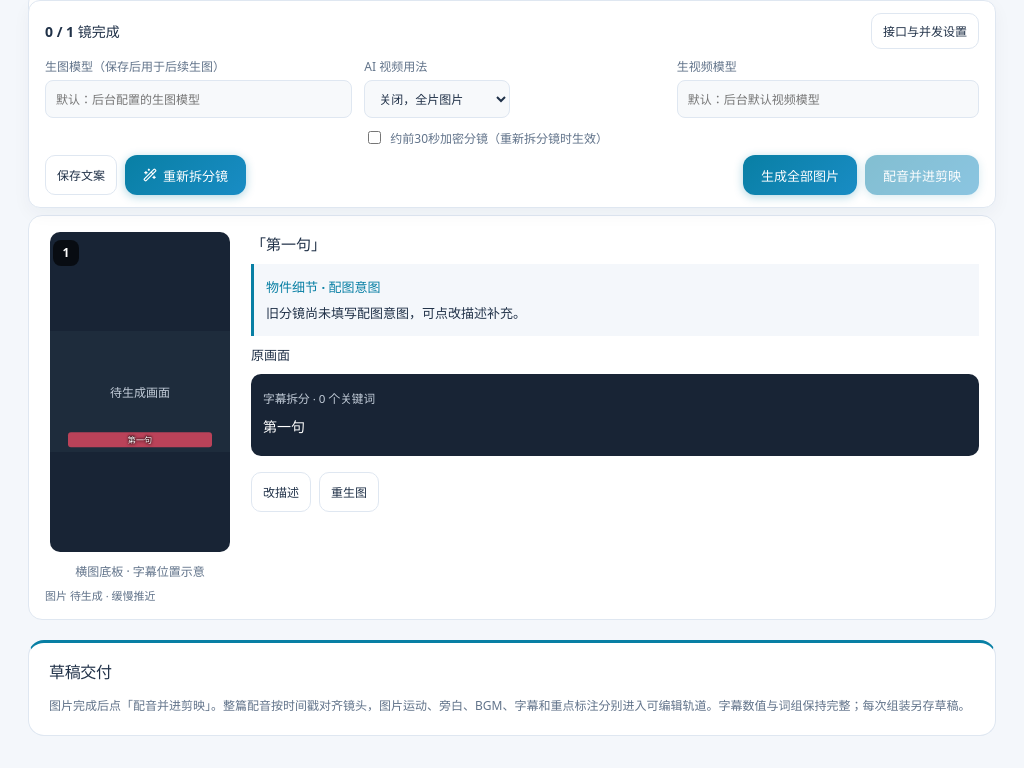
Test: explains why editing a shot prevents generation
(page scrolled)
What coordinates should you click on to do the following:
click the button "改描述"
I would click on:
 (281, 492)
Its box is x1=251 y1=472 x2=311 y2=512.
(page scrolled)
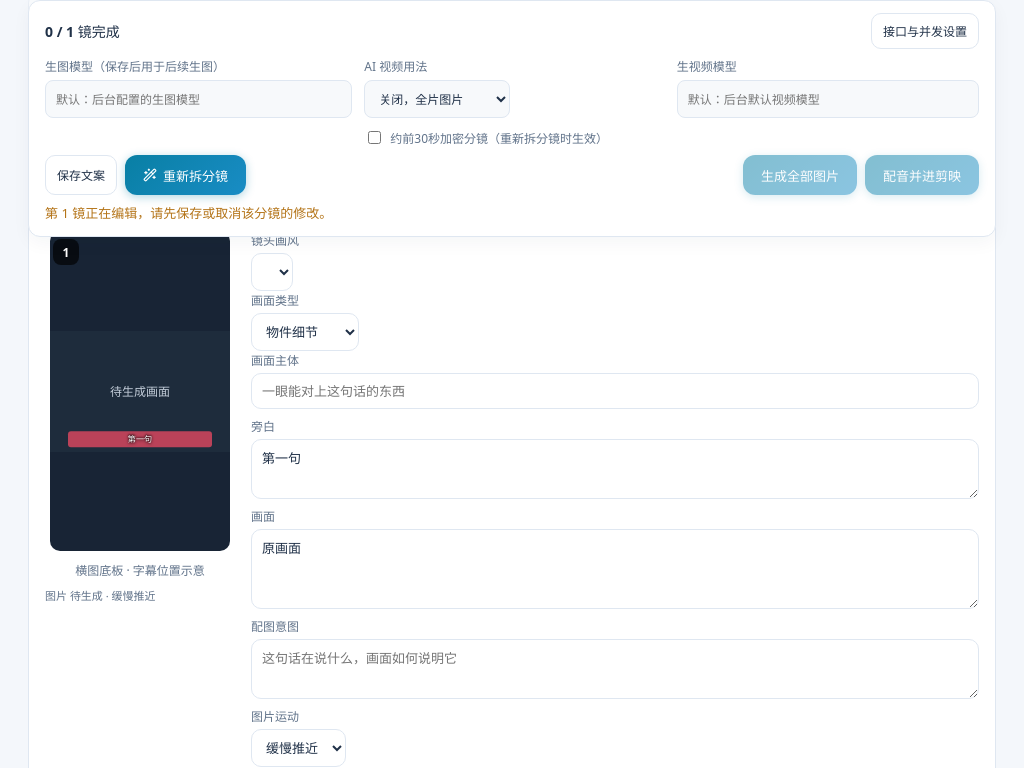
expect the button "生成全部图片" is disabled: met, box x1=743 y1=155 x2=857 y2=195
expect the text "第 1 镜正在编辑，请先保存或取消该分镜的修改。" is shown: met, box x1=45 y1=204 x2=332 y2=222
